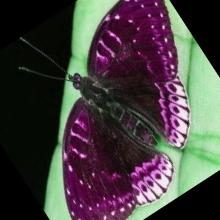butterfly: (64, 0, 190, 220)
